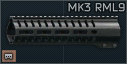AR-10 CMMG MK3 RML9 9 inch M-LOK handguard: (0, 0, 127, 64)
